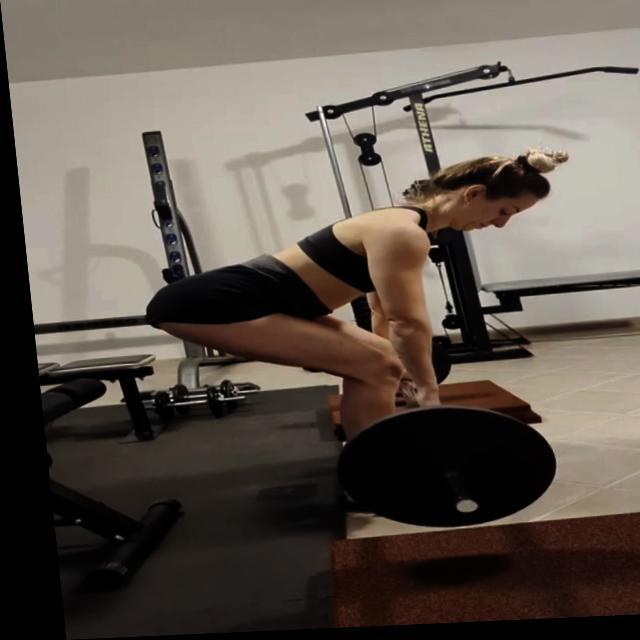barbell: (318, 405, 555, 537)
